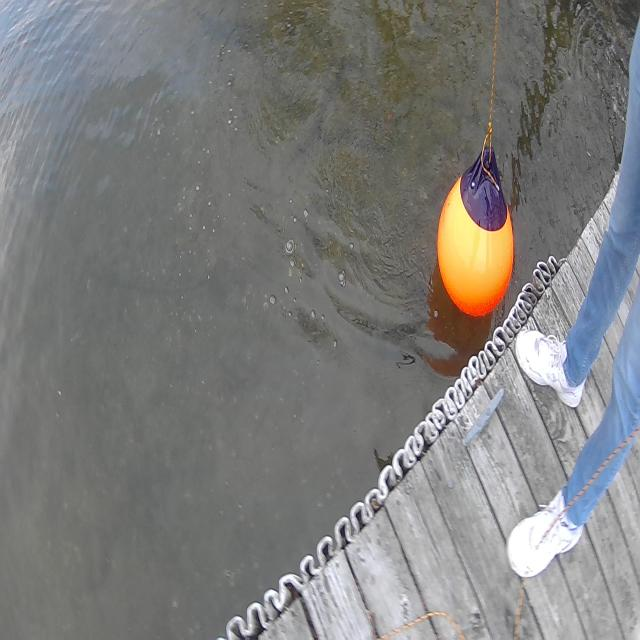Buoy: (434, 136, 516, 324)
